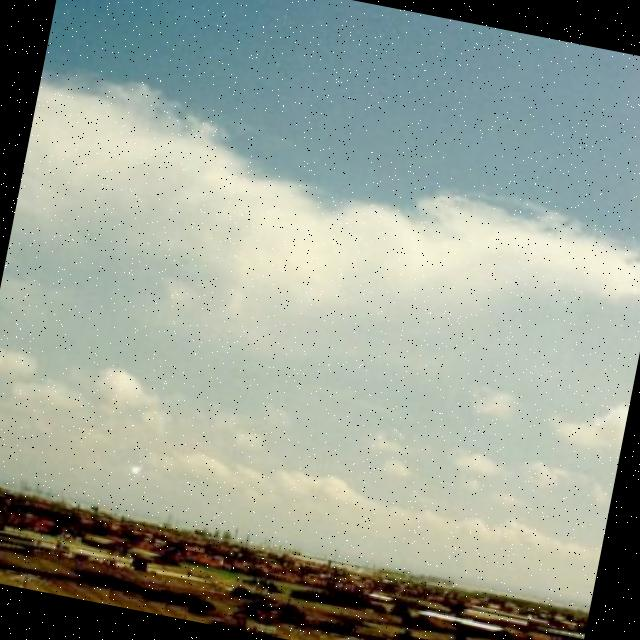St: (1, 51, 640, 585)
